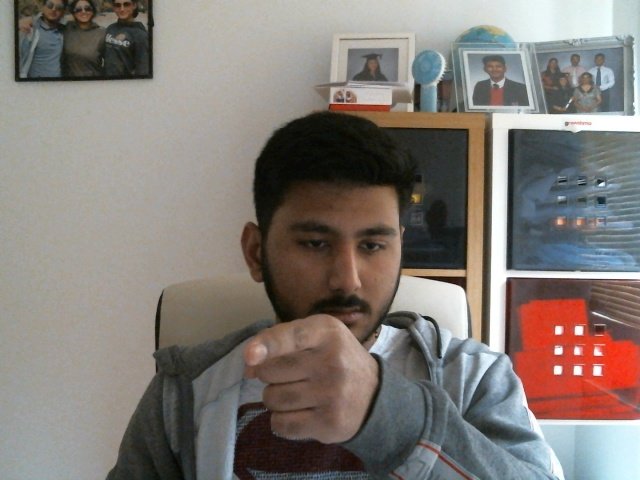you: (242, 313, 364, 438)
